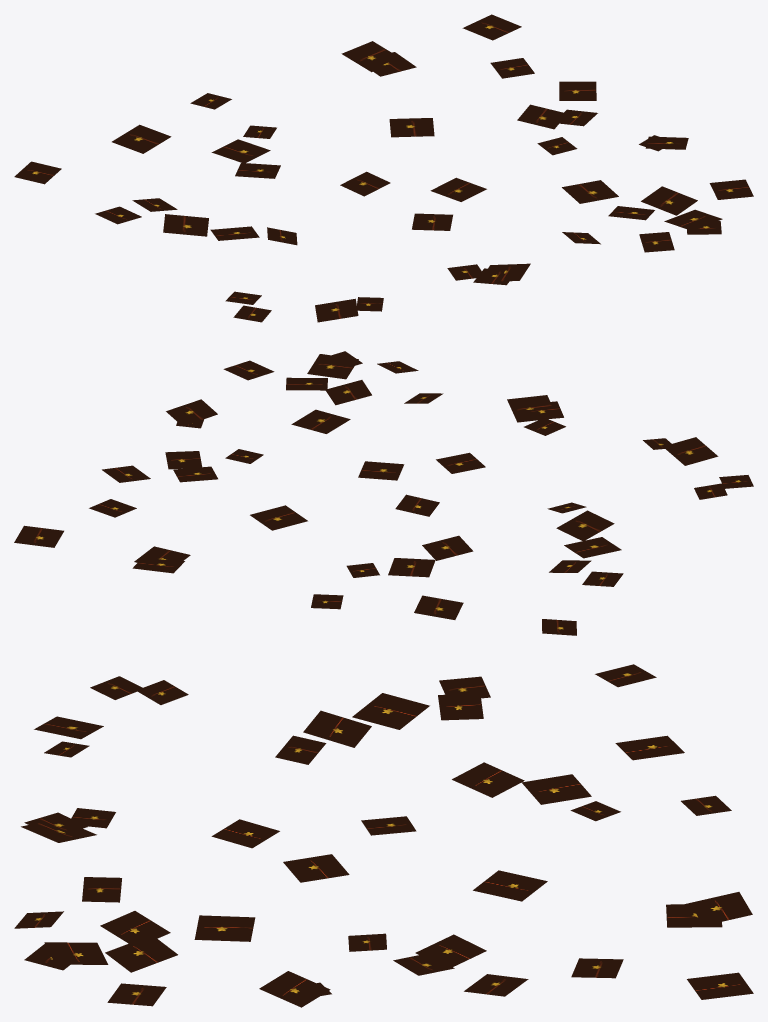
Rendered from fallen_leaves.glb.
The picture shows the model from 3 angles, top to bottom: view 1: azimuth 30°, elevation 25°; view 2: azimuth 150°, elevation 25°; view 3: azimuth 270°, elevation 25°; orthographic projection. The views are drawn at different scales.
Parts seen in each view (by area): view 1: fallen_leaves; view 2: fallen_leaves; view 3: fallen_leaves.
Part boxes in pixels (bbox=[...]): fallen_leaves: bbox=[14, 14, 753, 322]; fallen_leaves: bbox=[14, 351, 753, 635]; fallen_leaves: bbox=[14, 664, 753, 1007].
Size of the model in its own units: 2.56 by 0.0344 by 2.33.
Materials: 1 (1 with a texture image).
